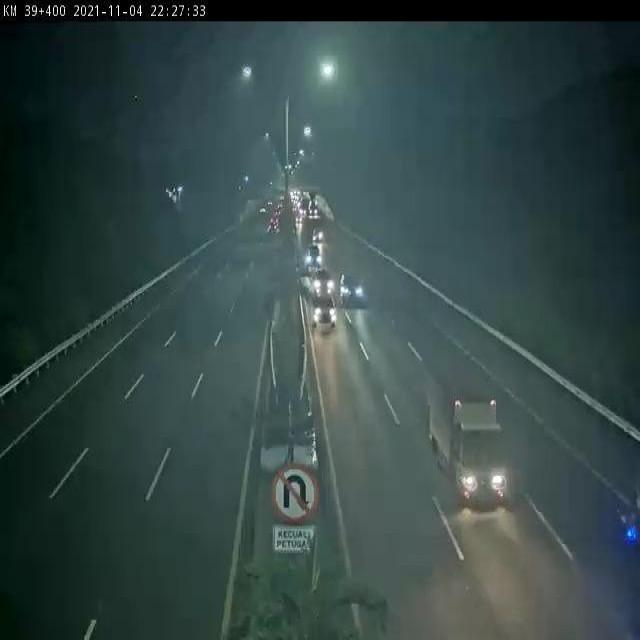car: (311, 290, 338, 326), (337, 268, 364, 301), (311, 264, 334, 295)
truck-s-: (428, 362, 506, 506)
